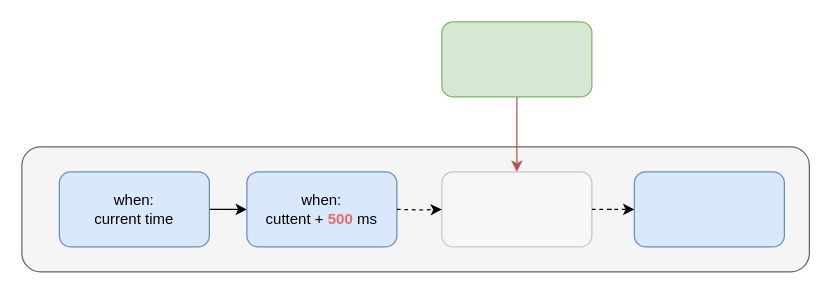
This 831x294 diagram has some shape labels left out. The shapes that lost their labels are listed below. From the top down, each one's centre as x and y in pixels, then its label:
point (516, 59): delayed msg 1000 ms
point (708, 209): when: cuttent + 1500 ms
